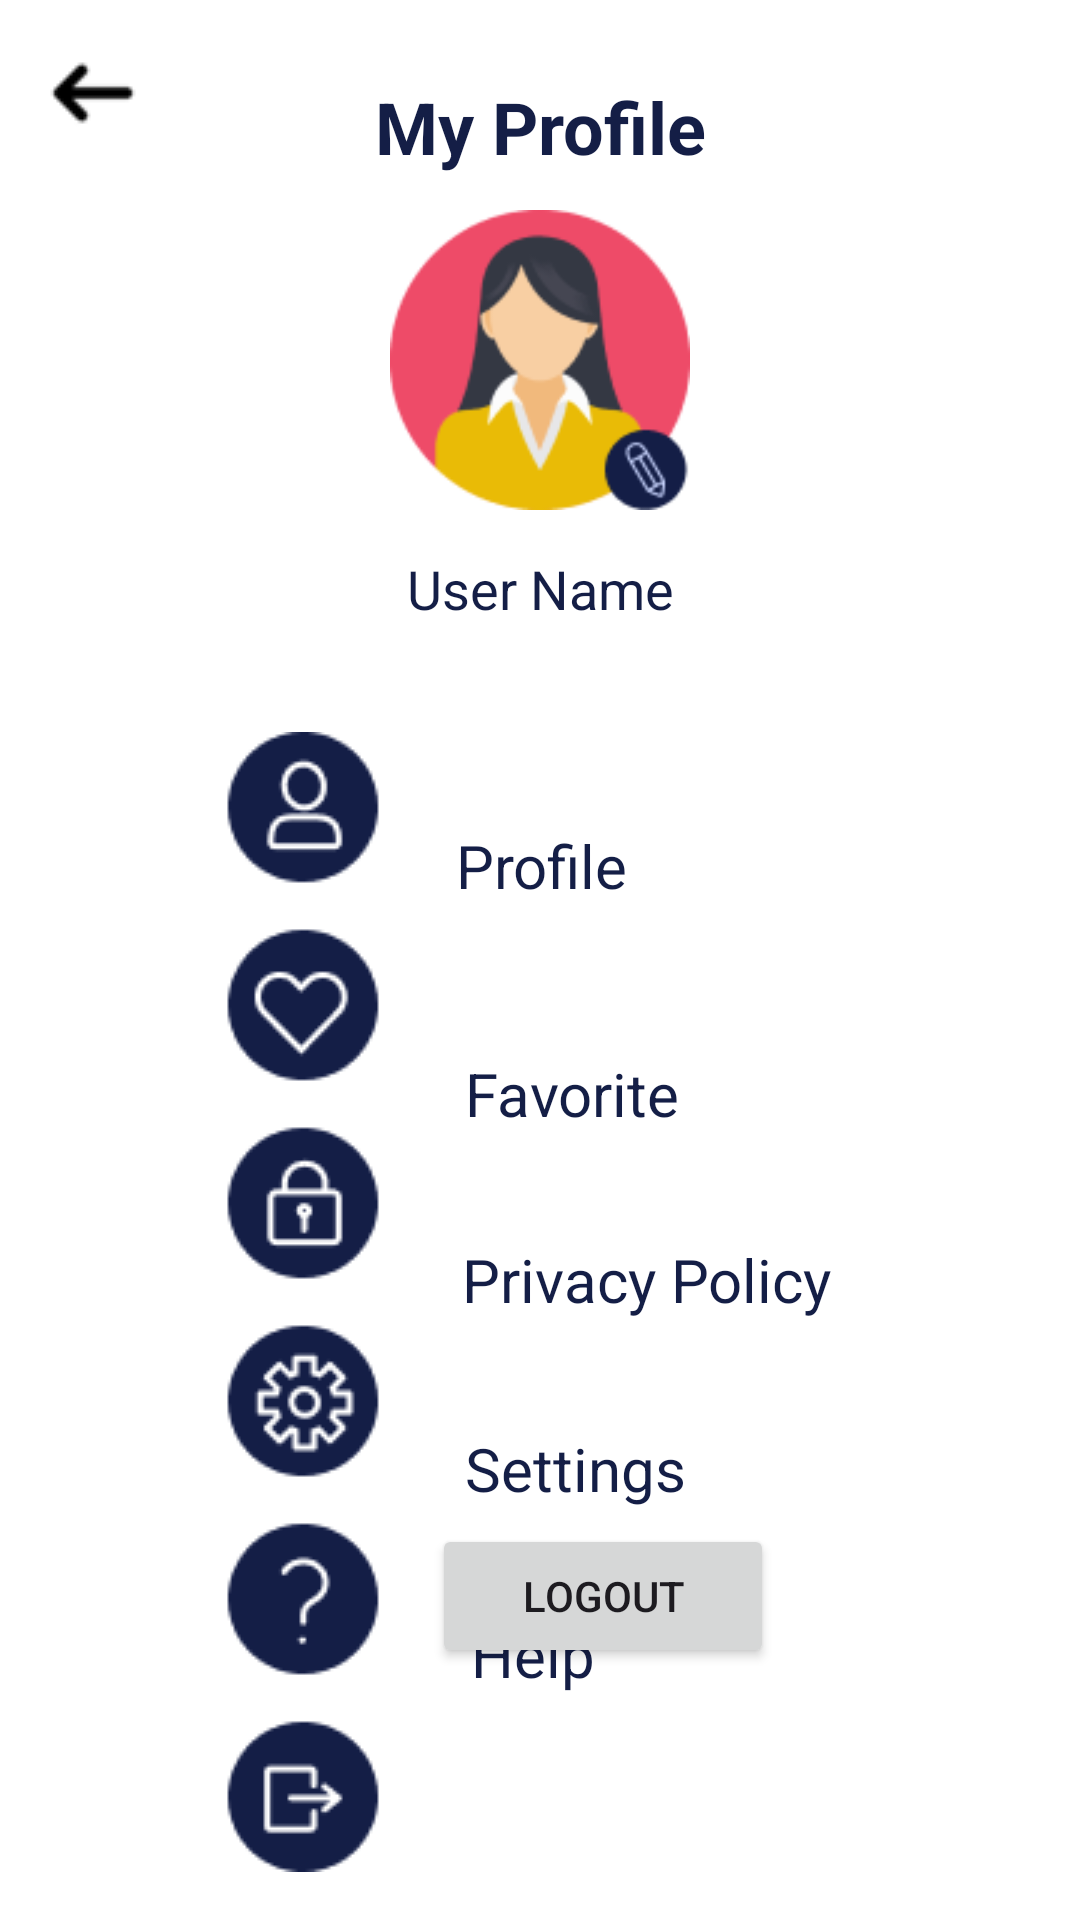

Locate icon controls on the screen. Image size 1080px x 1920px, boxes as (x1, y1, x2, y2).
Back Arrow: (52, 62, 134, 124)
